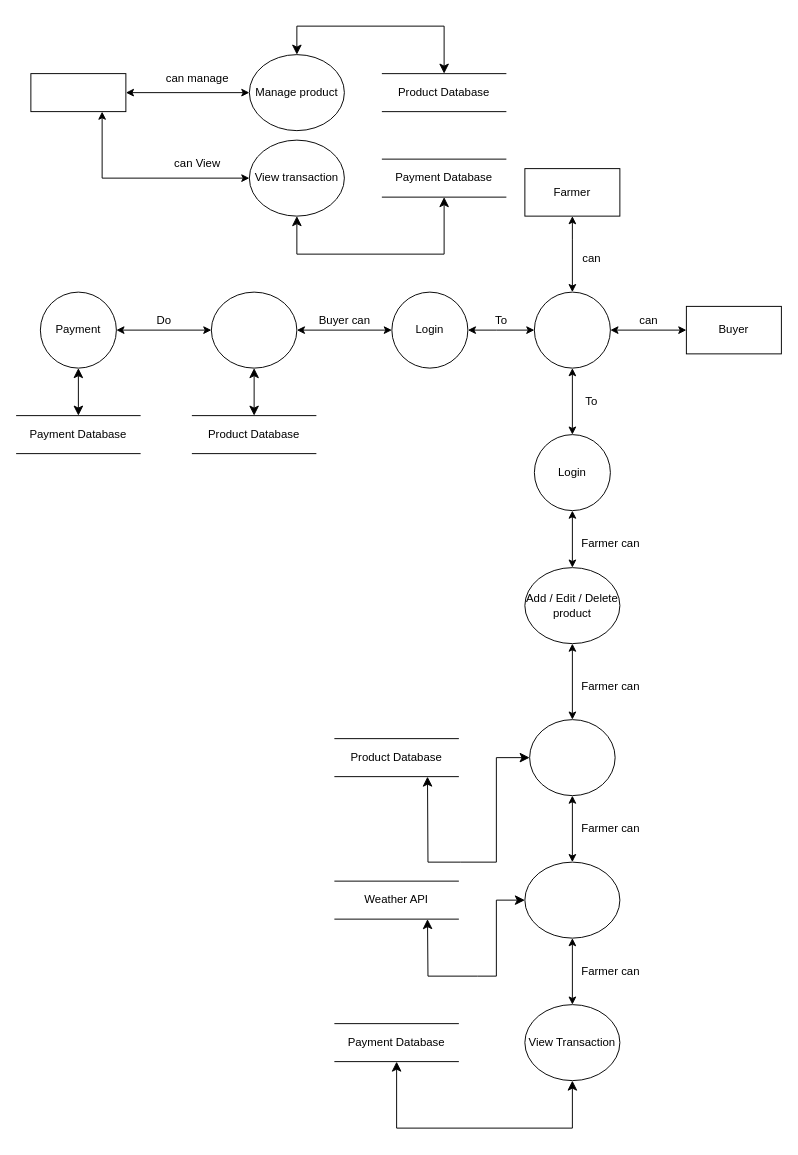
Some shapes in this 798 by 1155 pixel diagram are drawn without their labels. Each missing label, with the centre of its shape:
"Admin" belongs at point (78, 92).
"Registration" belongs at point (571, 329).
"Select product" belongs at point (253, 329).
"View product" belongs at point (572, 757).
"View Weather" belongs at point (572, 899).
